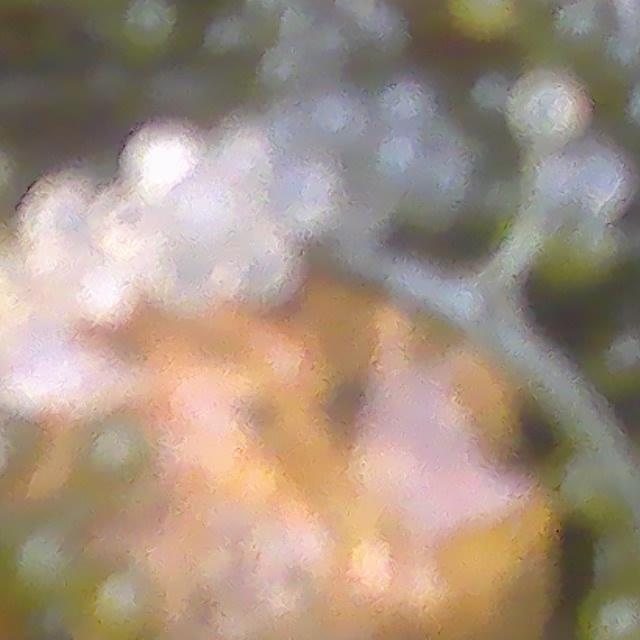SeaGrape: (145, 218, 230, 308), (13, 174, 91, 262), (512, 73, 583, 142), (283, 155, 344, 234), (230, 223, 288, 299), (81, 261, 137, 326), (574, 149, 635, 208), (121, 132, 186, 183), (223, 119, 272, 184), (507, 155, 569, 206), (381, 79, 432, 130)
